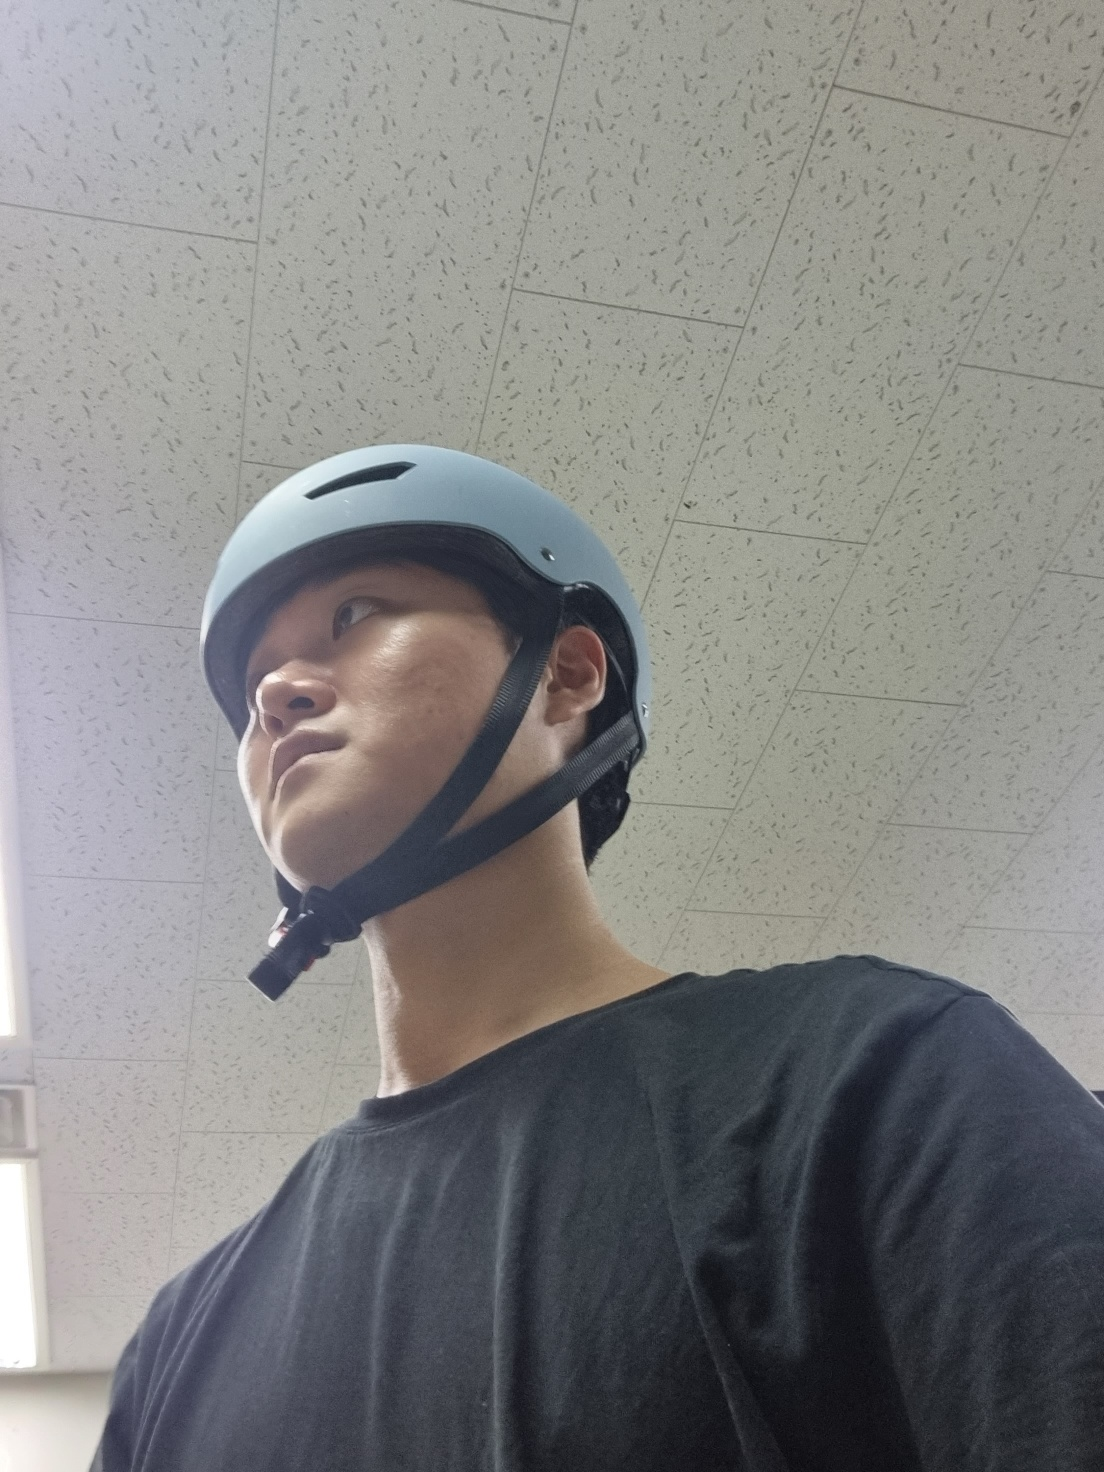Helmet: (148, 420, 710, 975)
